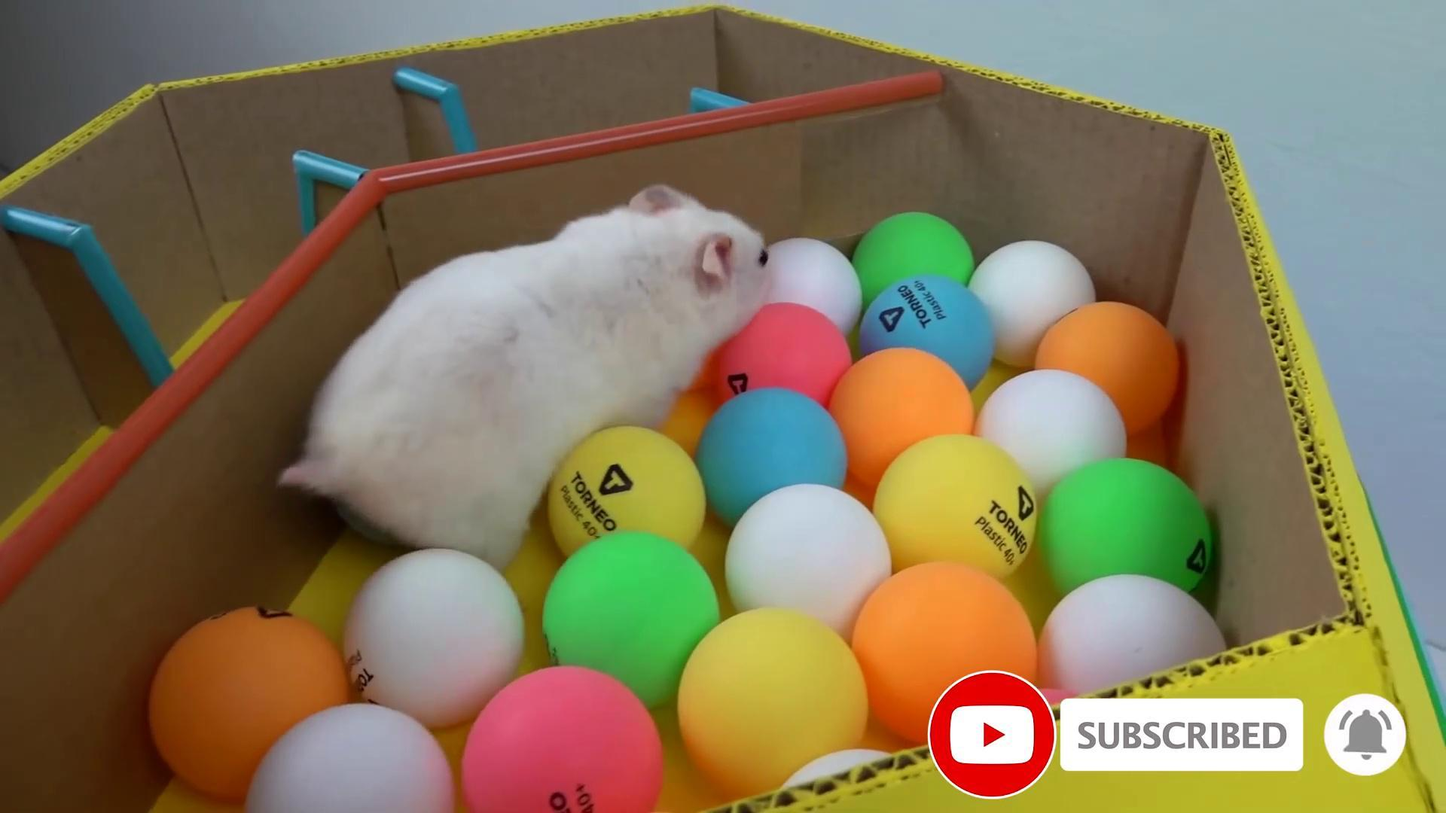rat: (281, 184, 772, 574)
